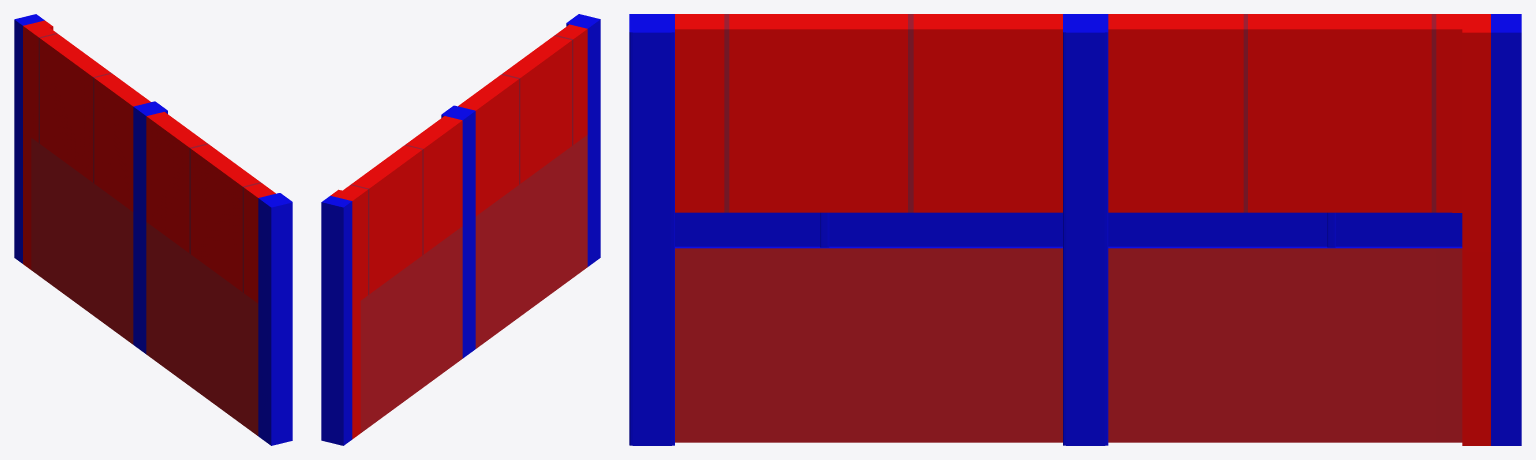
The model's file is BlankWall 2.fbx.
The picture shows the model from 3 angles, left to right: view 1: azimuth 30°, elevation 25°; view 2: azimuth 150°, elevation 25°; view 3: azimuth 270°, elevation 25°; orthographic projection. The views are drawn at different scales.
Parts seen in each view (by area): view 1: BlankWall.001; view 2: BlankWall.001; view 3: BlankWall.001.
Part boxes in pixels (box(x1,y1,x2,y2)): BlankWall.001: box(14, 14, 292, 445); BlankWall.001: box(321, 14, 600, 445); BlankWall.001: box(629, 14, 1521, 445).
Bounding box in the file's own units: 60.03 × 612 × 1197.
